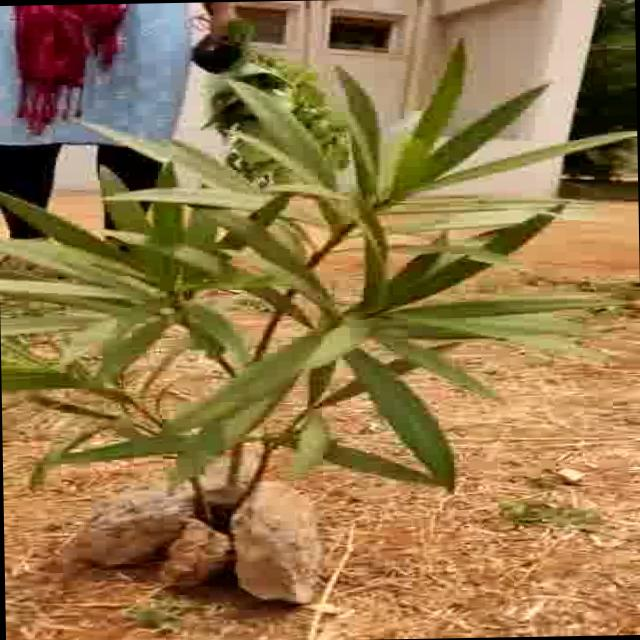OLEANDER: (0, 44, 640, 522)
